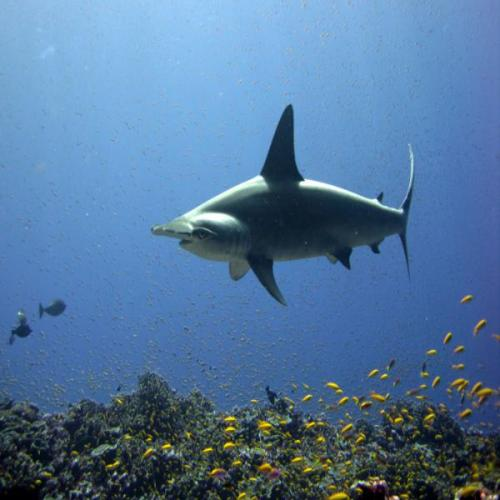shark-endangered: (152, 105, 416, 310)
